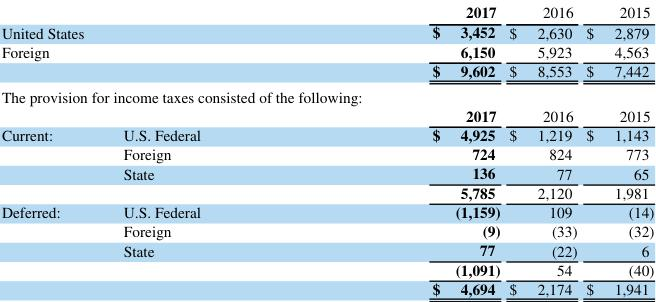table: (0, 1, 653, 299)
table column: (103, 1, 315, 299), (315, 1, 504, 299), (0, 1, 103, 299), (504, 1, 581, 299), (581, 1, 653, 299)
table column header: (0, 1, 653, 83)
table projected row header: (0, 83, 653, 105)
table row: (0, 1, 653, 83), (0, 83, 653, 105), (0, 278, 653, 299), (0, 124, 653, 144), (0, 201, 653, 221), (0, 105, 653, 124), (0, 144, 653, 163), (0, 163, 653, 182), (0, 182, 653, 201), (0, 221, 653, 240), (0, 240, 653, 259), (0, 259, 653, 278)
table spanning cell: (0, 201, 103, 299), (0, 124, 103, 201)
